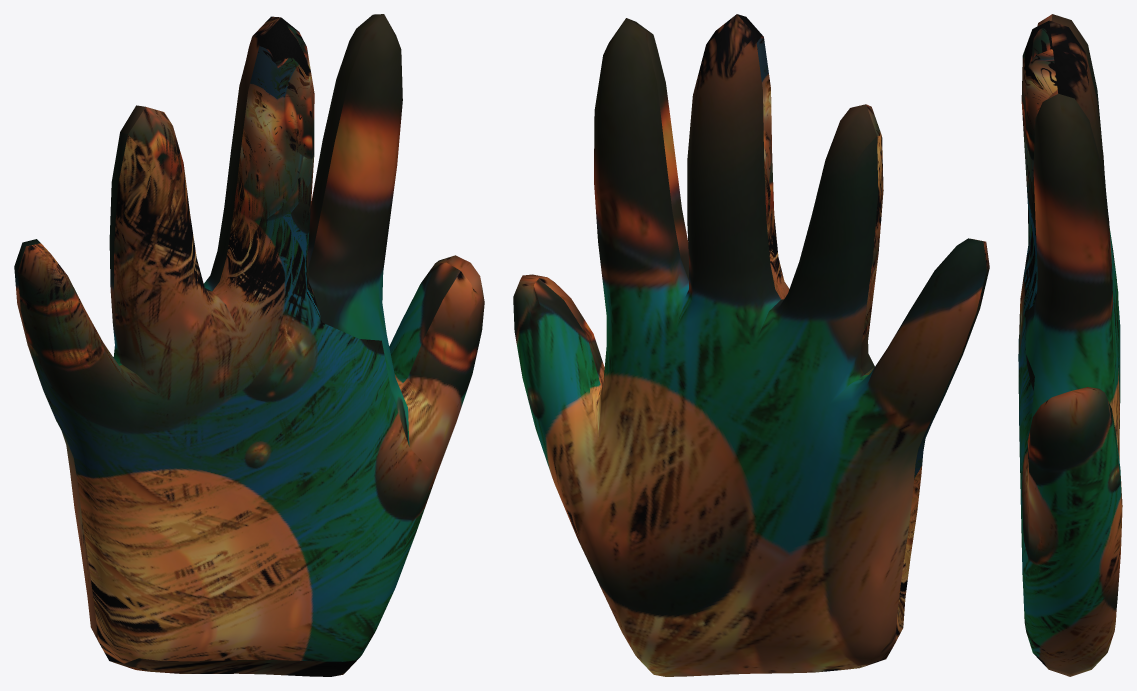
The model's file is hand.fbx.
The picture shows the model from 3 angles, left to right: view 1: azimuth 30°, elevation 25°; view 2: azimuth 150°, elevation 25°; view 3: azimuth 270°, elevation 25°; orthographic projection. The views are drawn at different scales.
Parts seen in each view (by area): view 1: Cube; view 2: Cube; view 3: Cube.
Boxes of the visible parts, left/top/right/bottom form: Cube: left=14, top=14, right=484, bottom=676; Cube: left=513, top=14, right=989, bottom=676; Cube: left=1018, top=14, right=1122, bottom=676.
Bounding box in the file's own units: 332 × 461 × 69.23.
